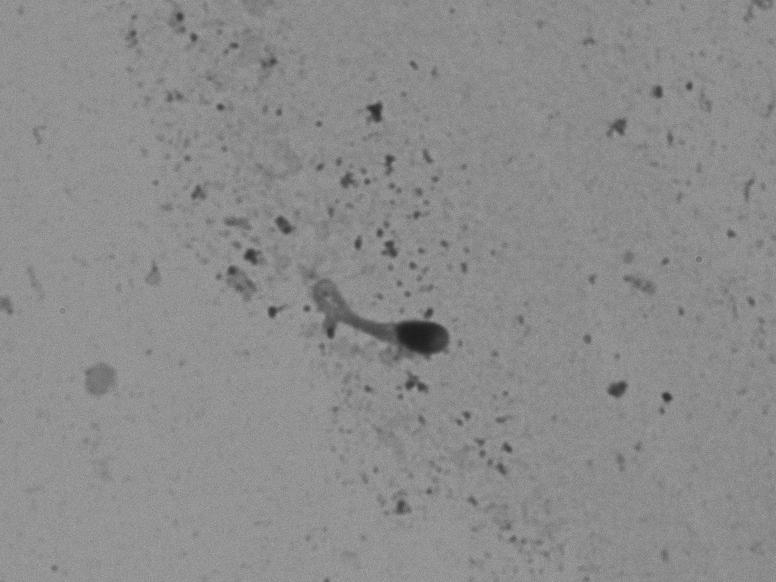Abnormal: (270, 253, 466, 385)
